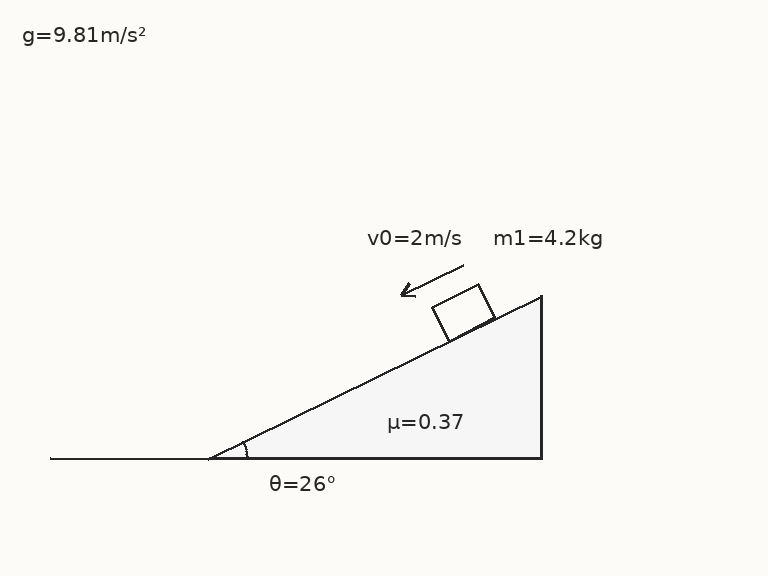block: (430, 282, 496, 342)
ramp: (205, 293, 543, 460)
